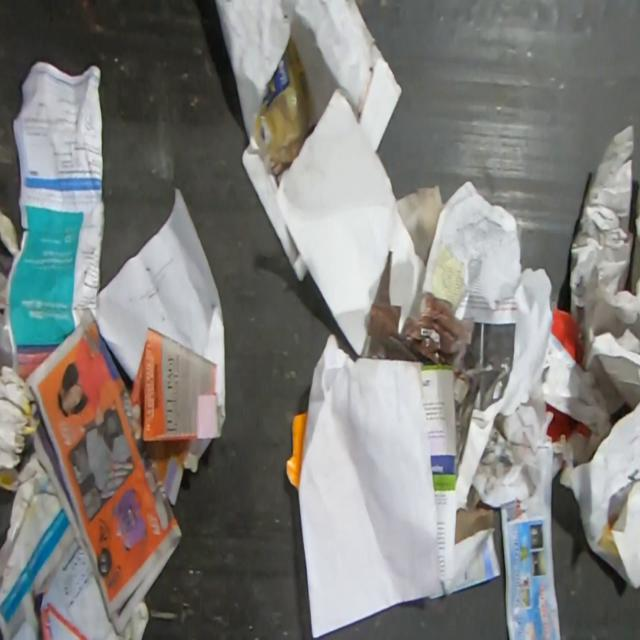cardboard: (551, 307, 584, 367), (544, 402, 591, 443)
